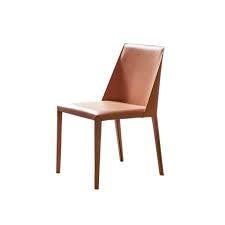chair: (42, 21, 178, 195)
